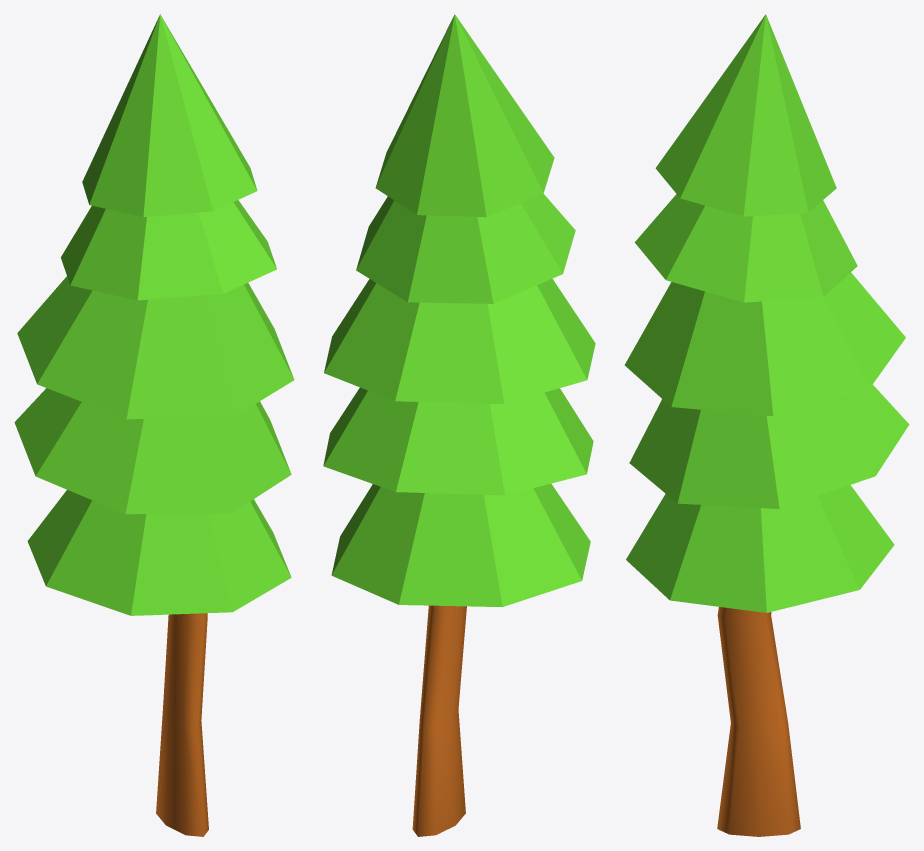
File: tree.fbx
3 views of the same model, side by side, from view 1: azimuth 30°, elevation 25°; view 2: azimuth 150°, elevation 25°; view 3: azimuth 270°, elevation 25° (orthographic).
Visible parts, largest first — view 1: Cylinder.002; view 2: Cylinder.002; view 3: Cylinder.002.
Boxes of the visible parts, box(x1,y1,x2,y2) form: Cylinder.002: box(14, 14, 294, 836); Cylinder.002: box(323, 14, 595, 836); Cylinder.002: box(624, 14, 909, 836).
Bounding box in the file's own units: 310 × 974 × 312.
